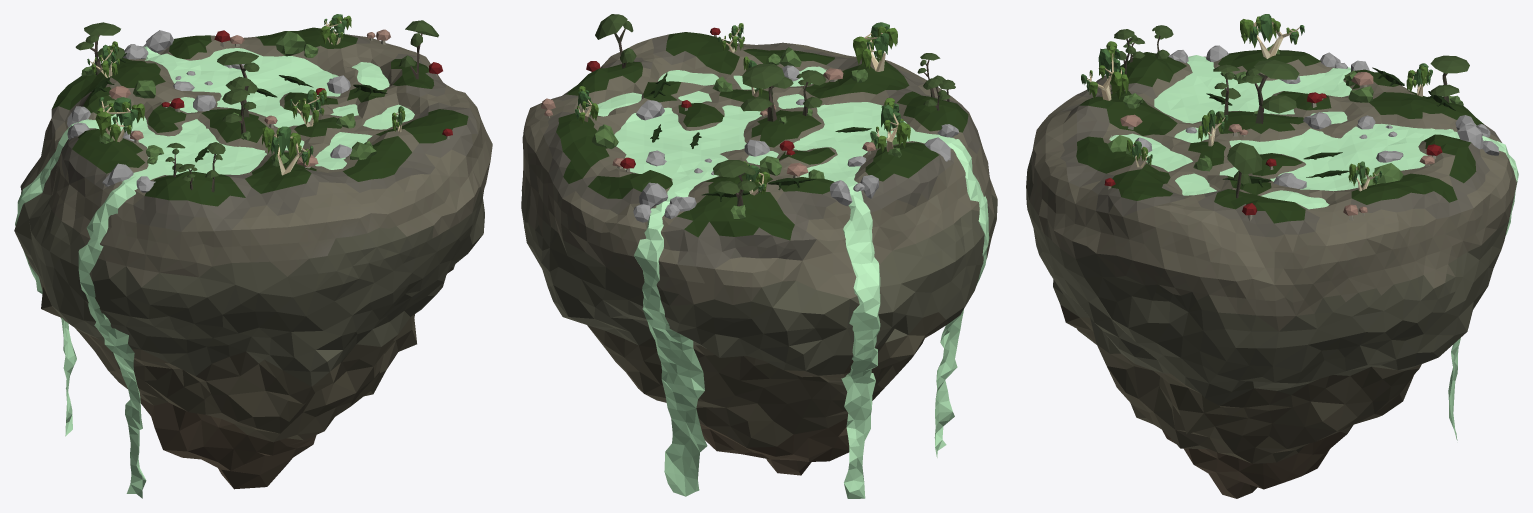
The model's file is swamp.glb.
The picture shows the model from 3 angles, left to right: view 1: azimuth 30°, elevation 25°; view 2: azimuth 150°, elevation 25°; view 3: azimuth 270°, elevation 25°; orthographic projection. The views are drawn at different scales.
Visible parts, largest first — view 1: Island, Water, WillowTree.005, WillowTree.002, Tree.001, Tree.005, WillowTree, Tree.006, Tree, WillowTree.004, WillowTree.003, Bush.009; view 2: Island, Water, Tree.001, WillowTree.002, WillowTree.005, Tree.005, Tree.006, Tree, WillowTree.003, Rock.007; view 3: Island, Water, Tree.001, WillowTree.002, WillowTree.005, Tree.006, Tree.005, WillowTree, Tree, WillowTree.004, WillowTree.003.
Part boxes in pixels (box(x1,y1,x2,y2)): Island: box(14, 27, 492, 489); Water: box(15, 46, 414, 498); WillowTree.005: box(95, 97, 144, 142); WillowTree.002: box(262, 126, 313, 175); Tree.001: box(217, 51, 259, 117); Tree.005: box(75, 22, 124, 74); WillowTree: box(290, 89, 326, 127); Tree.006: box(399, 20, 438, 79); Tree: box(222, 88, 256, 134); WillowTree.004: box(87, 41, 119, 77); WillowTree.003: box(320, 14, 351, 45); Bush.009: box(275, 31, 305, 56); Island: box(521, 32, 997, 475); Water: box(589, 66, 989, 498); Tree.001: box(740, 64, 793, 121); WillowTree.002: box(853, 22, 897, 71); WillowTree.005: box(870, 98, 910, 152); Tree.005: box(713, 160, 756, 206); Tree.006: box(595, 14, 636, 68); Tree: box(796, 70, 826, 115); WillowTree.003: box(575, 86, 598, 123); Rock.007: box(639, 182, 667, 208); Island: box(1026, 50, 1516, 498); Water: box(1109, 55, 1518, 440); Tree.001: box(1241, 59, 1299, 123); WillowTree.002: box(1081, 41, 1128, 100); WillowTree.005: box(1240, 14, 1304, 58); Tree.006: box(1227, 142, 1262, 198); Tree.005: box(1430, 55, 1469, 102); WillowTree: box(1198, 110, 1228, 146); Tree: box(1213, 64, 1240, 115); WillowTree.004: box(1406, 63, 1432, 96); WillowTree.003: box(1348, 161, 1382, 191).
Size of the model in its own units: 11.05 by 10.67 by 10.92.
